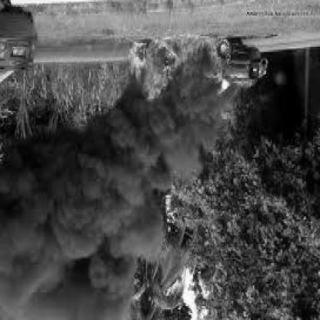Fire: (124, 34, 230, 113)
Smoke: (0, 97, 233, 320)
